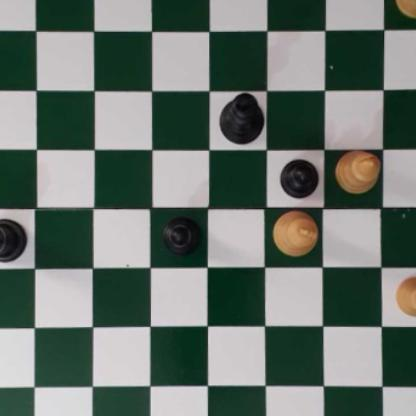black-king: (218, 91, 265, 144)
black-pawn: (162, 217, 203, 258), (280, 156, 319, 198)
black-rook: (0, 215, 27, 263)
white-bishop: (333, 148, 380, 196)
white-king: (274, 208, 317, 257)
white-pawn: (394, 274, 416, 317)
white-rook: (394, 0, 416, 17)
